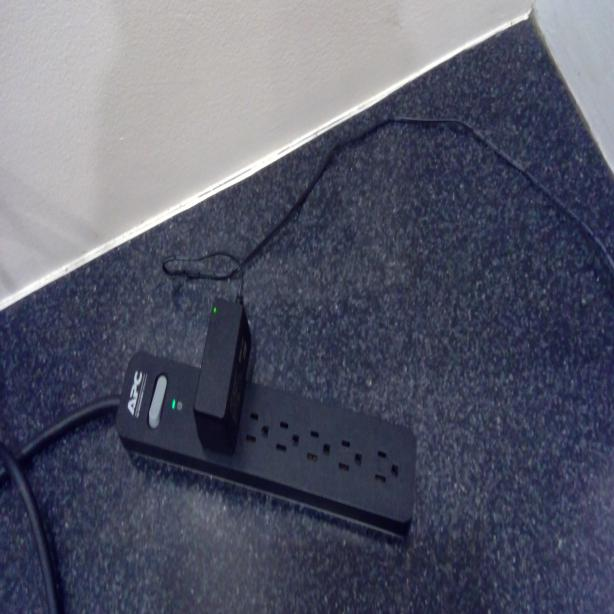typeb: (240, 398, 270, 459), (369, 440, 402, 490), (272, 414, 301, 466), (336, 430, 365, 482), (305, 422, 333, 472)
